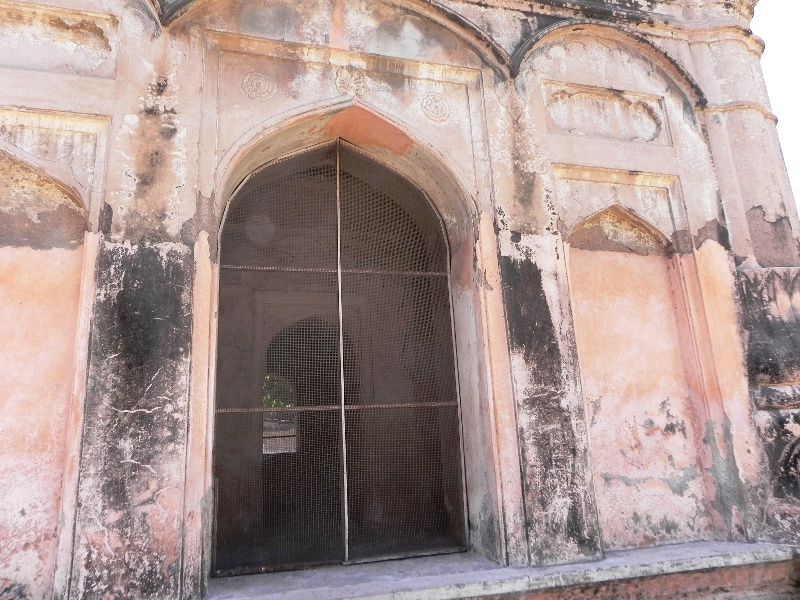Spalling: (551, 221, 662, 256), (742, 201, 800, 267), (179, 183, 217, 263)
